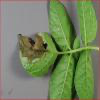Potato leaf late blight: (17, 31, 59, 79)
